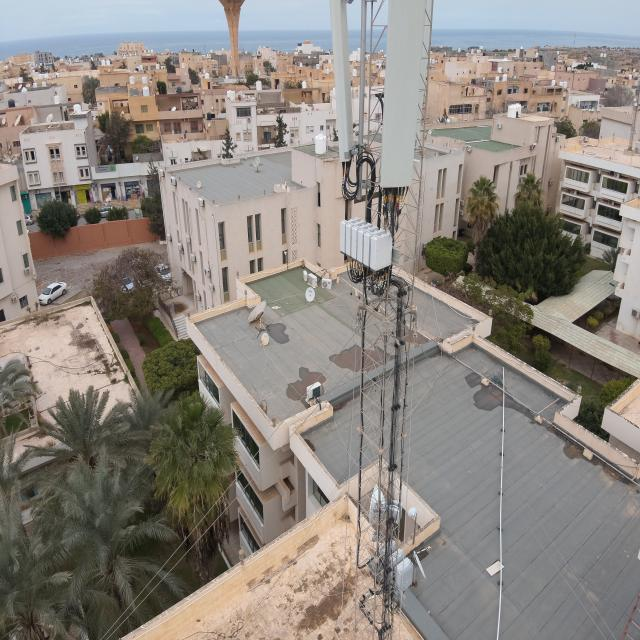antenna: (373, 0, 434, 191), (323, 0, 355, 168)
microware-dish: (364, 489, 422, 538)
power-box: (359, 540, 417, 596)
radio-unit: (339, 212, 397, 277)
